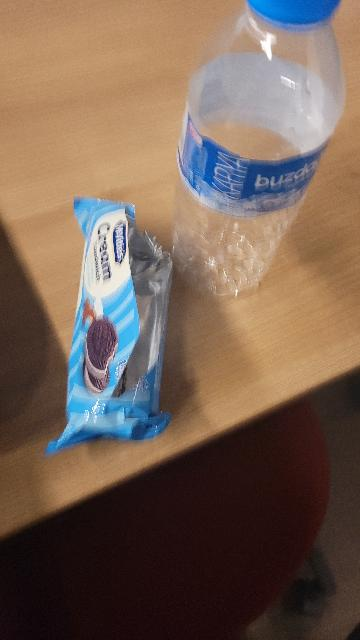Plastik: (179, 0, 348, 307), (59, 190, 181, 457)
